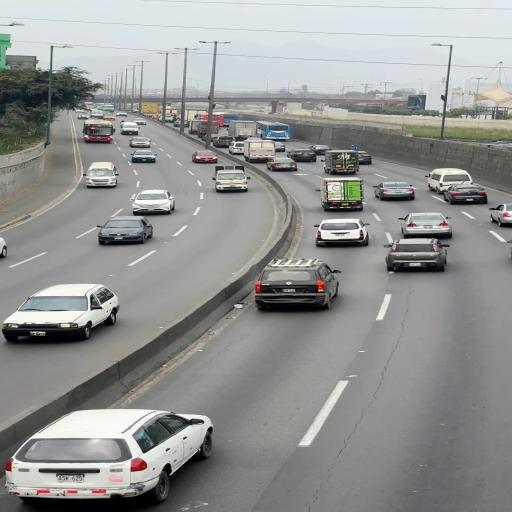auto: (4, 409, 215, 503), (0, 284, 118, 340), (252, 262, 332, 306), (384, 238, 448, 270), (96, 216, 154, 244), (314, 218, 368, 246), (398, 212, 452, 238), (131, 189, 175, 214), (442, 184, 488, 204), (372, 181, 415, 201), (213, 174, 249, 192), (212, 165, 246, 182), (489, 204, 512, 226), (265, 158, 298, 172), (86, 162, 118, 176), (84, 174, 117, 187), (288, 150, 318, 162), (191, 151, 217, 163), (130, 150, 156, 162), (119, 121, 140, 135), (128, 136, 152, 148), (212, 136, 234, 148), (354, 150, 372, 164), (308, 145, 331, 155), (228, 142, 245, 155), (132, 118, 147, 124), (115, 112, 127, 116)
bus: (426, 167, 473, 194), (82, 119, 115, 143), (256, 120, 290, 141), (200, 112, 226, 127), (156, 108, 178, 120), (90, 110, 104, 119), (101, 103, 114, 111), (84, 102, 94, 106)
camion: (315, 176, 364, 210), (322, 149, 360, 175), (241, 140, 278, 164), (230, 120, 259, 139), (189, 118, 219, 136), (140, 102, 160, 115)
